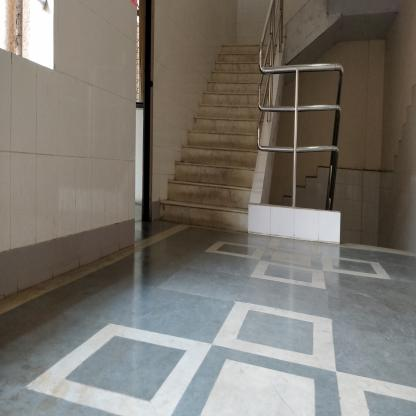stairs: (185, 124, 249, 239)
